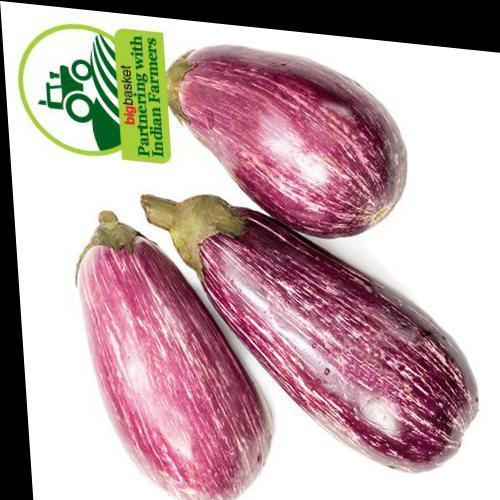eggplant: (145, 38, 488, 444), (43, 210, 251, 499), (156, 12, 419, 210)
